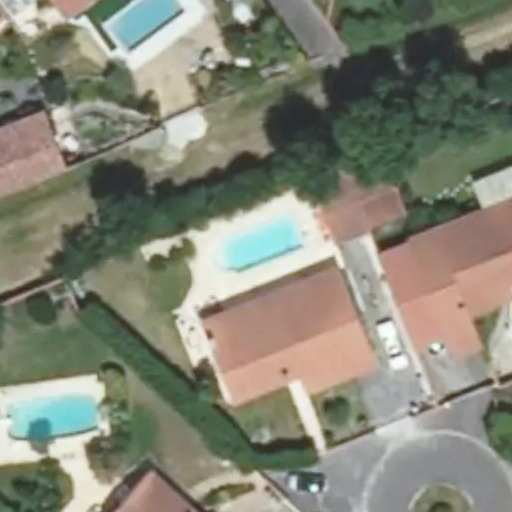pool: (215, 212, 310, 273), (3, 389, 104, 443), (103, 1, 187, 55)
